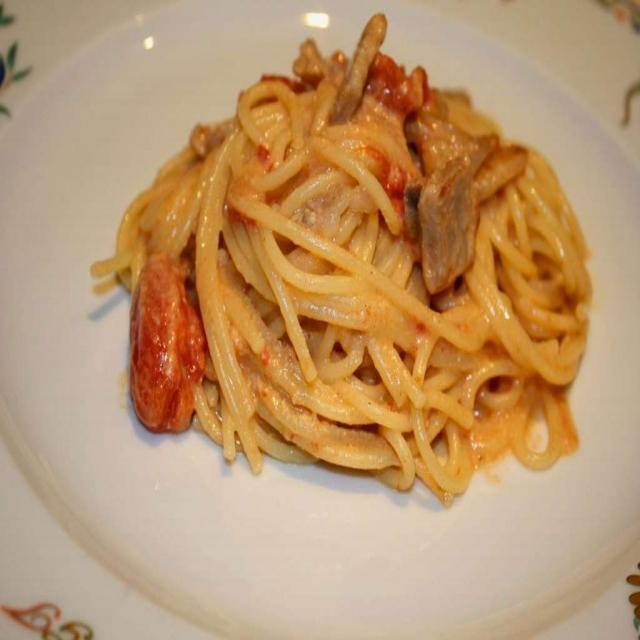Pasta with carbonara sauce: (131, 26, 635, 520)
